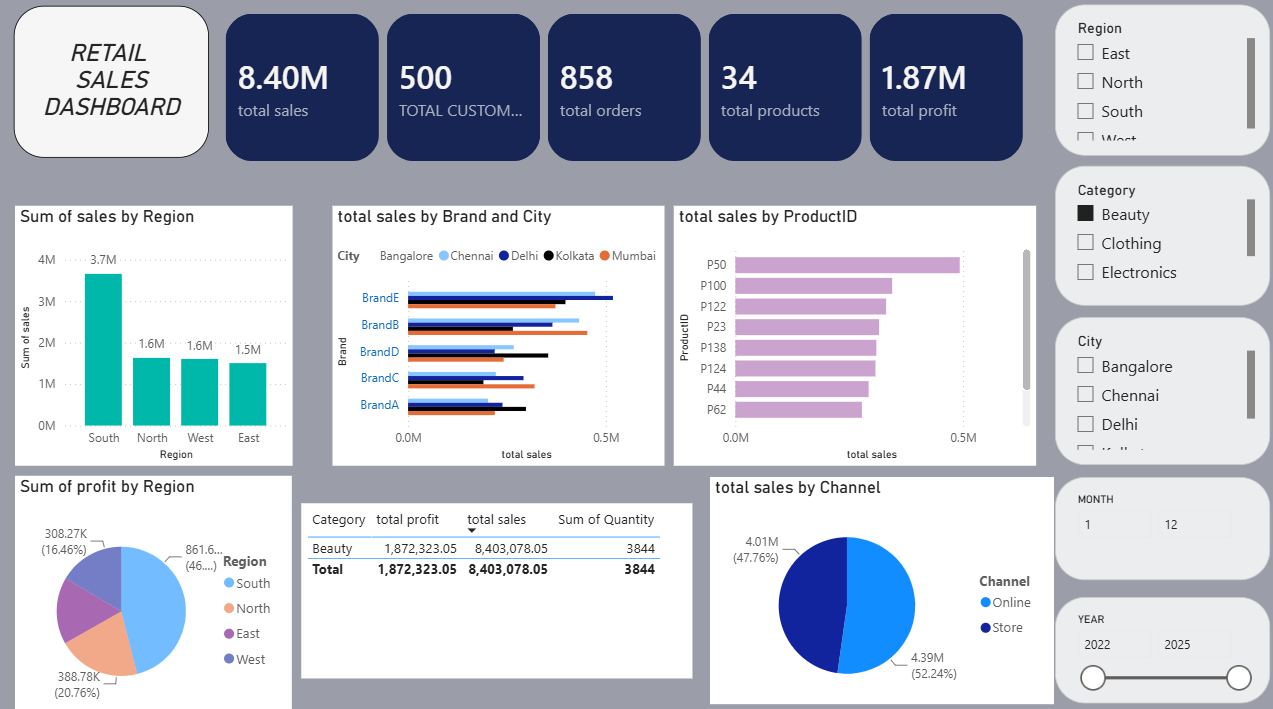

The page's visual inventory and layout, read from the dashboard file:
{"tool":"powerbi","page":{"name":"overview","canvas":[1280,720],"ordinal":5},"visuals":[{"type":"cardVisual","fields":{"Data":["Fact sales.total sales","Fact sales.TOTAL CUSTOMERS (VALUES)","Fact sales.total orders","Fact sales.total products","Fact sales.total profit"]},"box":[208.3,0,835,181.7],"z":0},{"type":"slicer","fields":{"Values":["Dim customer.Region"]},"box":[1055,7.5,215,151.2],"z":1000},{"type":"slicer","fields":{"Values":["Dim Product.Category"]},"box":[1055,168.3,215,140],"z":2000},{"type":"slicer","fields":{"Values":["Dim Calender.YEAR"]},"box":[1055,600,215,106.7],"z":3000},{"type":"slicer","fields":{"Values":["Dim customer.City"]},"box":[1055,320,215,148.3],"z":4000},{"type":"textbox","box":[13.3,8.3,195,151.7],"z":5000},{"type":"slicer","fields":{"Values":["Dim Calender.MONTH"]},"box":[1055,480,215,103.3],"z":6000},{"type":"columnChart","fields":{"Category":["Dim customer.Region"],"Y":["Sum(Fact sales.sales)"]},"box":[15,209.1,277.4,259.6],"z":7000},{"type":"pieChart","fields":{"Category":["Dim customer.Region"],"Y":["Sum(Fact sales.profit)"]},"box":[15,479,277,241],"z":8000},{"type":"clusteredBarChart","fields":{"Category":["Dim Product.Brand"],"Series":["Dim customer.City"],"Y":["Fact sales.total sales"]},"box":[332,209.1,332,259.6],"z":9000},{"type":"tableEx","fields":{"Values":["Dim Product.Category","Fact sales.total profit","Fact sales.total sales","Sum(Fact sales.Quantity)"]},"box":[301.2,506.2,391.2,175],"z":10000},{"type":"clusteredBarChart","fields":{"Y":["Fact sales.total sales"],"Category":["Dim Product.ProductID"]},"box":[673.3,208.3,362.1,259.6],"z":11000},{"type":"pieChart","fields":{"Y":["Fact sales.total sales"],"Category":["Dim store.Channel"]},"box":[710,480,344.3,226.8],"z":12000}]}

Visuals, with their boxes in screenshot pixels (x1, y1, x2, y2), scaled from the page's 1280x720 canvas onto the 1273x709 screenshot:
cardVisual - Fact sales.total sales x Fact sales.TOTAL CUSTOMERS (VALUES): x1=207 y1=0 x2=1038 y2=179
slicer - Dim customer.Region: x1=1049 y1=7 x2=1263 y2=156
slicer - Dim Product.Category: x1=1049 y1=166 x2=1263 y2=304
slicer - Dim Calender.YEAR: x1=1049 y1=591 x2=1263 y2=696
slicer - Dim customer.City: x1=1049 y1=315 x2=1263 y2=461
textbox: x1=13 y1=8 x2=207 y2=158
slicer - Dim Calender.MONTH: x1=1049 y1=473 x2=1263 y2=574
columnChart - Dim customer.Region x Sum(Fact sales.sales): x1=15 y1=206 x2=291 y2=462
pieChart - Dim customer.Region x Sum(Fact sales.profit): x1=15 y1=472 x2=290 y2=708
clusteredBarChart - Dim Product.Brand x Dim customer.City: x1=330 y1=206 x2=660 y2=462
tableEx - Dim Product.Category x Fact sales.total profit: x1=300 y1=498 x2=689 y2=671
clusteredBarChart - Fact sales.total sales x Dim Product.ProductID: x1=670 y1=205 x2=1030 y2=461
pieChart - Fact sales.total sales x Dim store.Channel: x1=706 y1=473 x2=1049 y2=696
